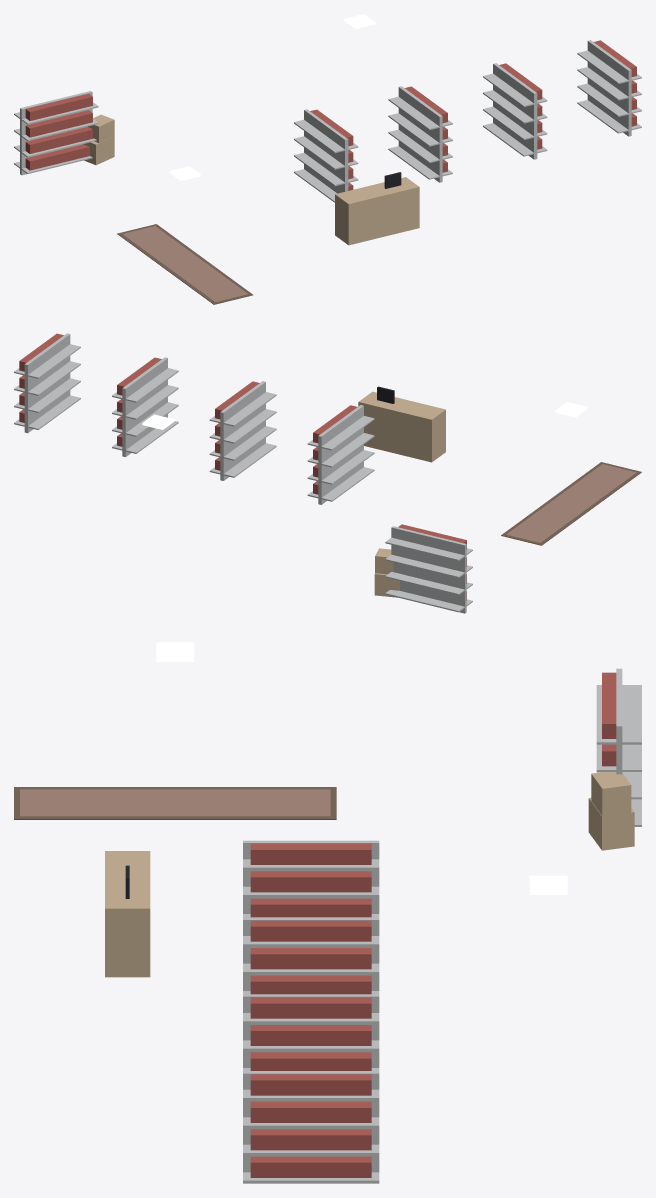
File: fine-s0.glb
3 views of the same model, one above another, from view 1: azimuth 30°, elevation 25°; view 2: azimuth 150°, elevation 25°; view 3: azimuth 270°, elevation 25° (orthographic). The views are drawn at different scales.
Parts seen in each view (by area): view 1: shelving.000, shop-counter.000, shelf.002, shelf.003, shelf.001, shelf.000, soft-s0, cardboard-box.000; view 2: shelving.000, shop-counter.000, shelf.003, shelf.001, shelf.000, shelf.002, soft-s0, cardboard-box.000; view 3: shelf.003, shelf.001, shelf.000, soft-s0, shelf.002, shop-counter.000, shelving.000, cardboard-box.000, ceiling-lamp.000, ceiling-lamp.001.
Boxes of the visible parts, x1,y1,x2,y2 form: shelving.000: (14, 91, 98, 175); shop-counter.000: (335, 172, 419, 245); shelf.002: (483, 63, 547, 159); shelf.003: (577, 40, 641, 136); shelf.001: (388, 86, 452, 182); shelf.000: (294, 109, 358, 202); soft-s0: (117, 224, 252, 304); cardboard-box.000: (83, 114, 114, 165); shelving.000: (385, 524, 472, 613); shop-counter.000: (358, 386, 445, 462); shelf.003: (14, 333, 80, 433); shelf.001: (209, 381, 276, 480); shelf.000: (307, 405, 374, 504); shelf.002: (112, 357, 178, 457); soft-s0: (501, 462, 641, 545); cardboard-box.000: (374, 548, 399, 597); shelf.003: (243, 1071, 379, 1183); shelf.001: (243, 917, 379, 994); shelf.000: (243, 840, 379, 917); soft-s0: (14, 787, 336, 819); shelf.002: (243, 994, 379, 1070); shop-counter.000: (105, 851, 150, 977); shelving.000: (596, 668, 641, 826); cardboard-box.000: (588, 772, 634, 850); ceiling-lamp.000: (156, 642, 194, 661); ceiling-lamp.001: (529, 875, 567, 894).
Bounding box in the file's own units: 12.91 × 2.24 × 8.29.
